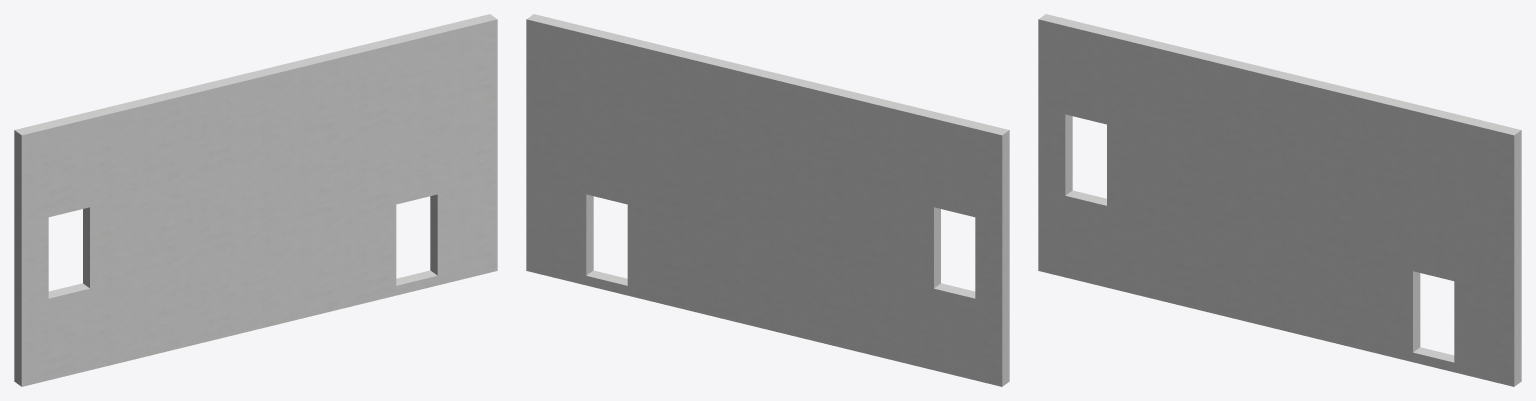
The model's file is Wall 1.FBX.
The picture shows the model from 3 angles, left to right: view 1: azimuth 30°, elevation 25°; view 2: azimuth 150°, elevation 25°; view 3: azimuth 330°, elevation 25°; orthographic projection.
Visible parts, largest first — view 1: wall 1; view 2: wall 1; view 3: wall 1.
Part boxes in pixels (x1,y1,x2,y2): wall 1: [14, 14, 497, 386]; wall 1: [526, 14, 1009, 386]; wall 1: [1038, 14, 1521, 386].
Size of the model in its own units: 1295 by 655 by 34.48.
1 material, 1 textured.
